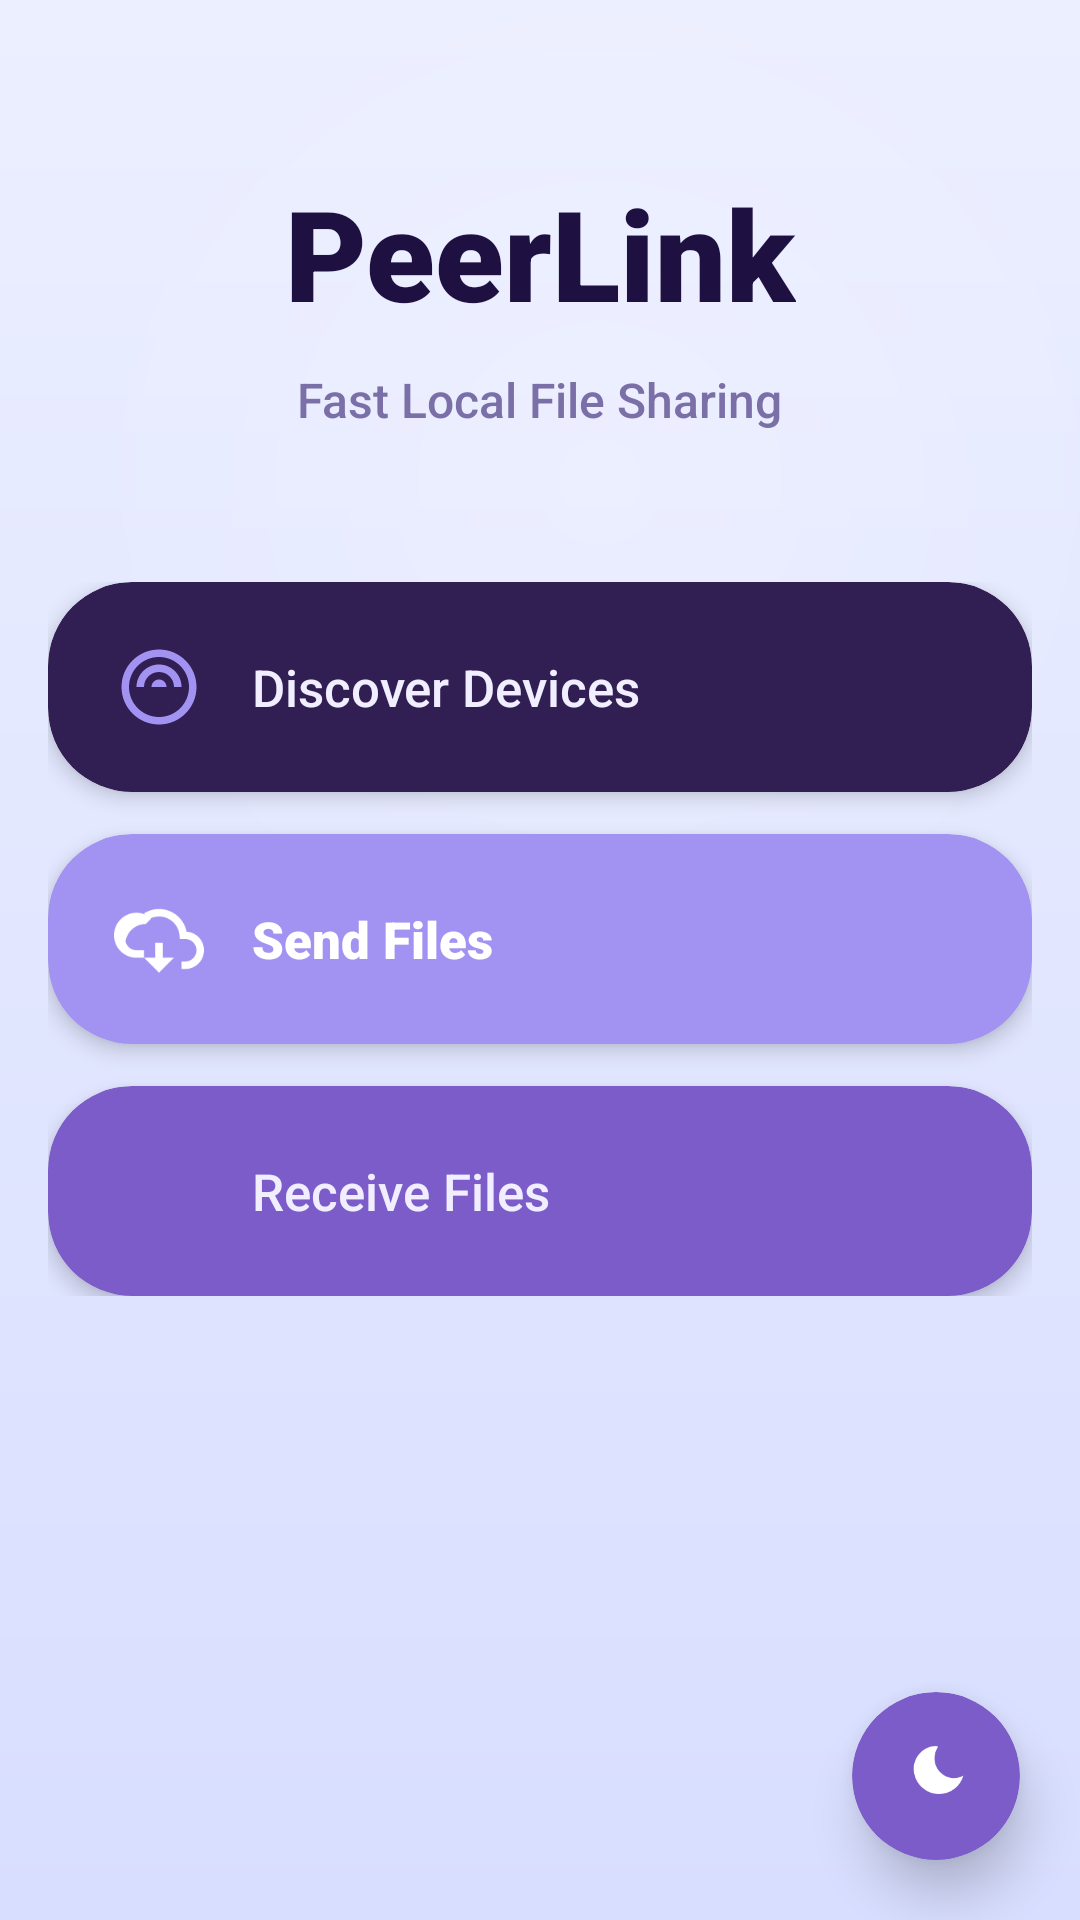

Where icons sit on this 1080w x 1920h app screen, as region(x1, y1, x2, y2):
radar: region(121, 649, 197, 725)
Toggle Theme: region(913, 1746, 963, 1794)
